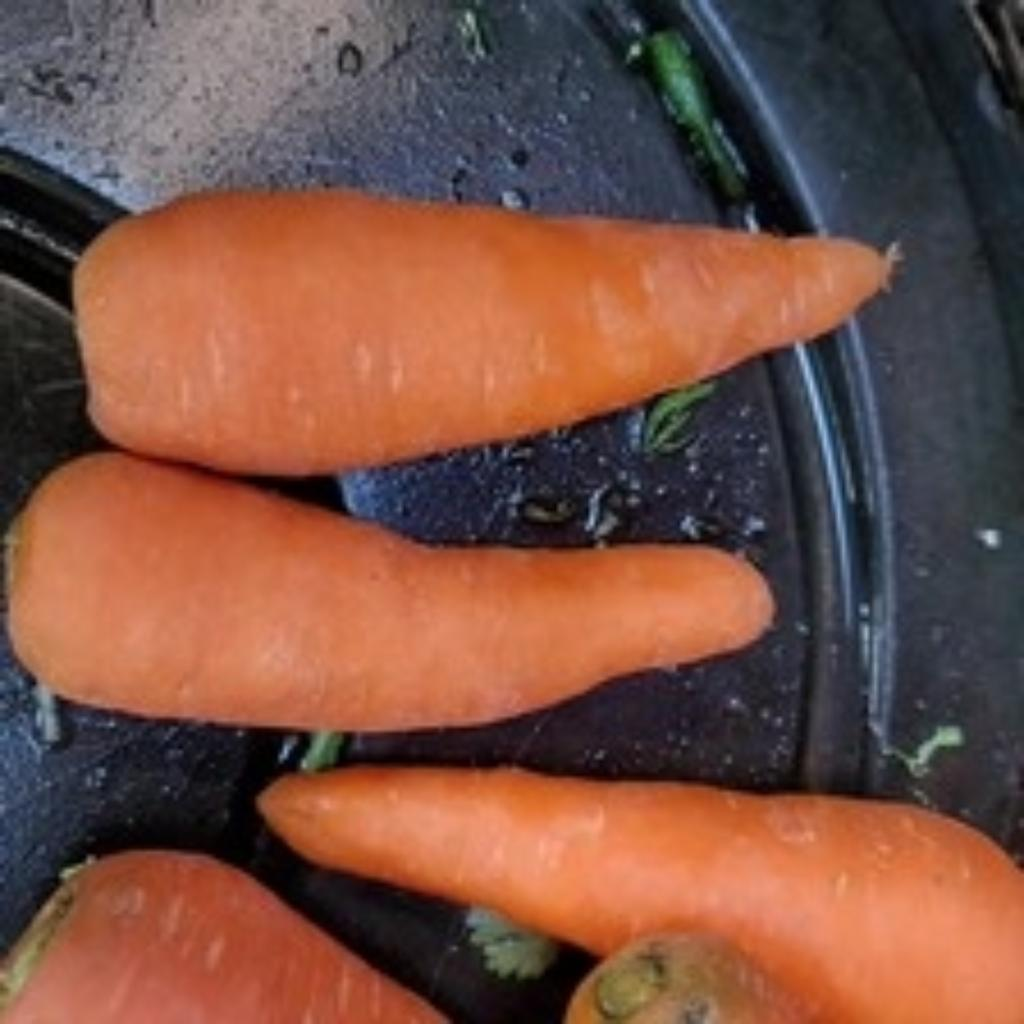carrot: (69, 187, 882, 466), (5, 448, 763, 722), (256, 763, 1015, 1015)
